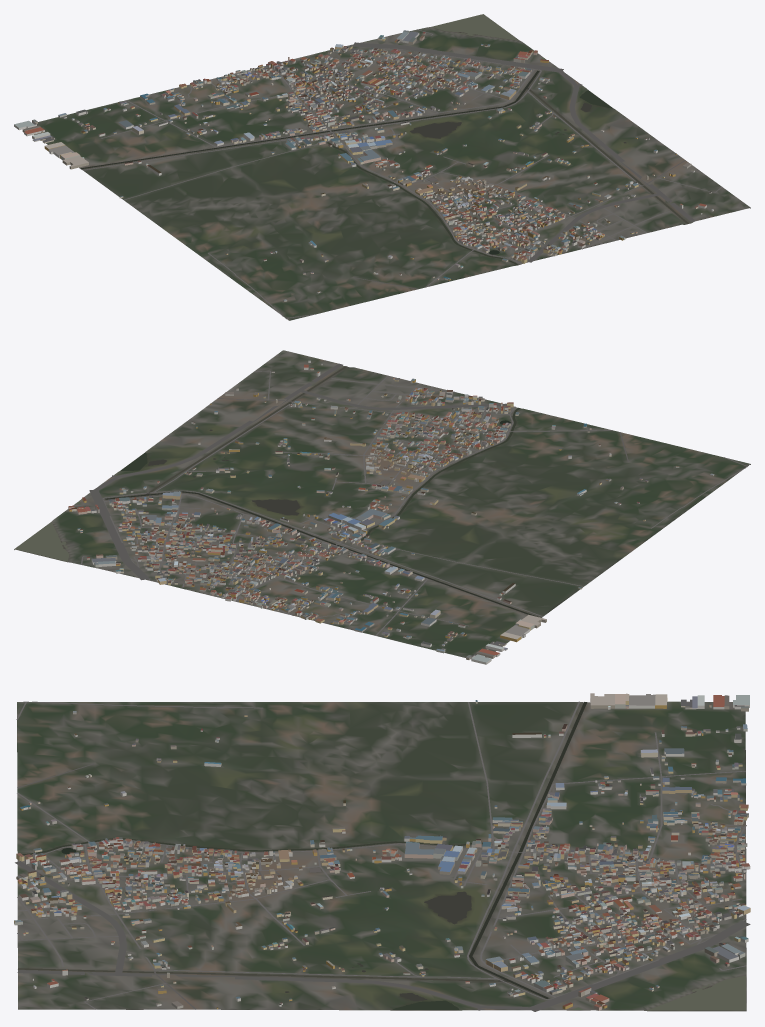
The picture shows the model from 3 angles, top to bottom: view 1: azimuth 30°, elevation 25°; view 2: azimuth 150°, elevation 25°; view 3: azimuth 270°, elevation 25°; orthographic projection. The views are drawn at different scales.
Visible parts, largest first — view 1: ground, buildings, roads, water; view 2: ground, buildings, roads, water; view 3: ground, buildings, roads, water.
Boxes of the visible parts, <box> form: ground: <box>26,14,750,320</box>; buildings: <box>14,30,713,301</box>; roads: <box>83,29,722,319</box>; water: <box>80,14,688,265</box>; ground: <box>14,350,750,659</box>; buildings: <box>68,360,714,664</box>; roads: <box>81,363,748,635</box>; water: <box>15,366,538,617</box>; ground: <box>17,701,746,1011</box>; buildings: <box>14,693,750,1010</box>; roads: <box>15,701,750,1011</box>; water: <box>18,702,746,1010</box>.
Bounding box in the file's own units: 1434 × 19.06 × 1418.
